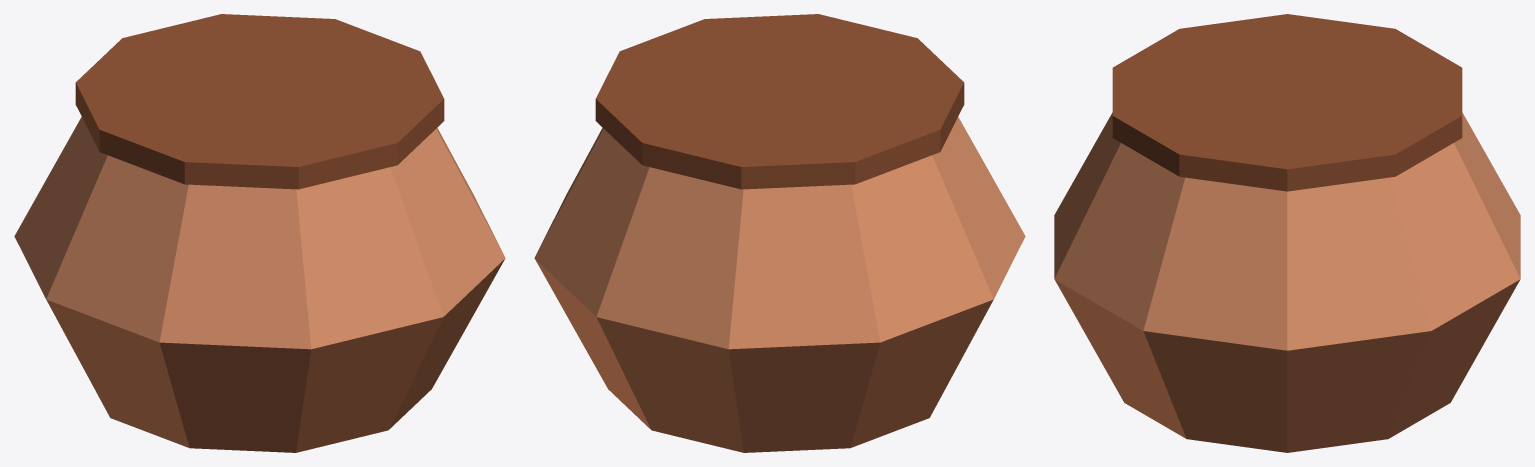
The model's file is drop_pot.glb.
3 renders of one model, left to right at view 1: azimuth 30°, elevation 25°; view 2: azimuth 150°, elevation 25°; view 3: azimuth 270°, elevation 25°, orthographic.
Visible parts, largest first — view 1: drop_pot; view 2: drop_pot; view 3: drop_pot.
Boxes of the visible parts, x1,y1,x2,y2 form: drop_pot: [14, 14, 505, 452]; drop_pot: [534, 14, 1025, 452]; drop_pot: [1054, 14, 1520, 452].
Bounding box in the file's own units: 0.2 × 0.13 × 0.1902.
